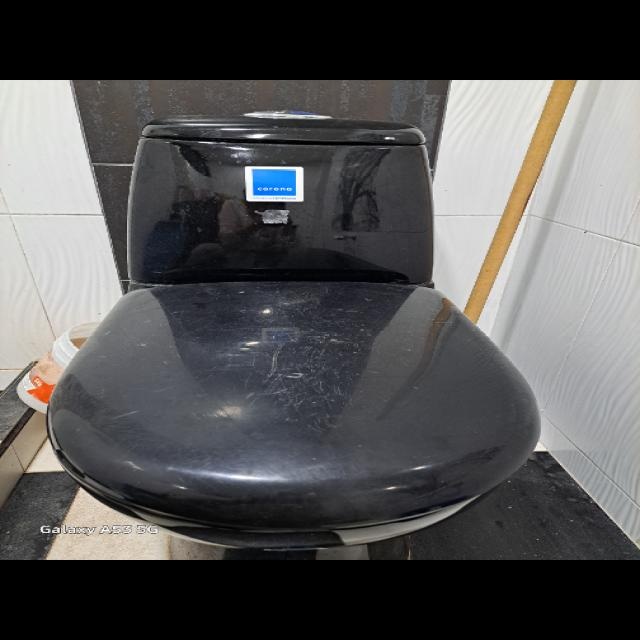toilet: (44, 108, 541, 558)
